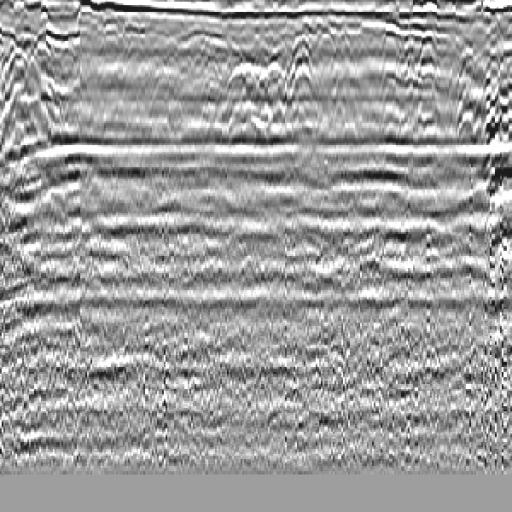non-metallic: (451, 42, 486, 167), (278, 30, 334, 103), (216, 46, 281, 105)
